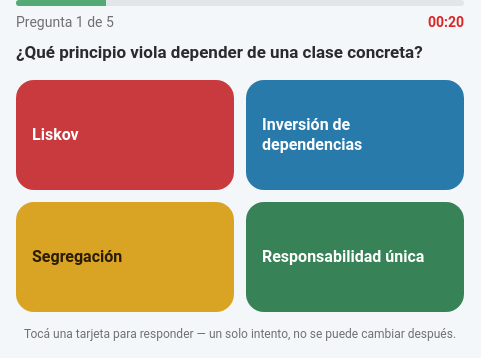
Test: SesionEnVivoEstudiante › responder (US-6.3.9) › 422 con la respuesta ya registrada: muestra el resultado con el acumulado del servidor
Click the button "Liskov". click: [125, 134]
box: 16,80 -> 234,190
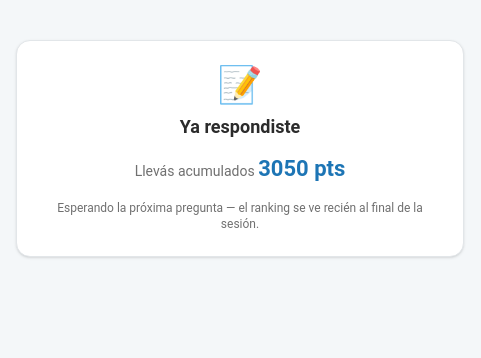
Expected: the heading "Ya respondiste" is shown, 180,116 -> 300,137
Expected: the text "3050 pts" is shown, 258,156 -> 345,181
